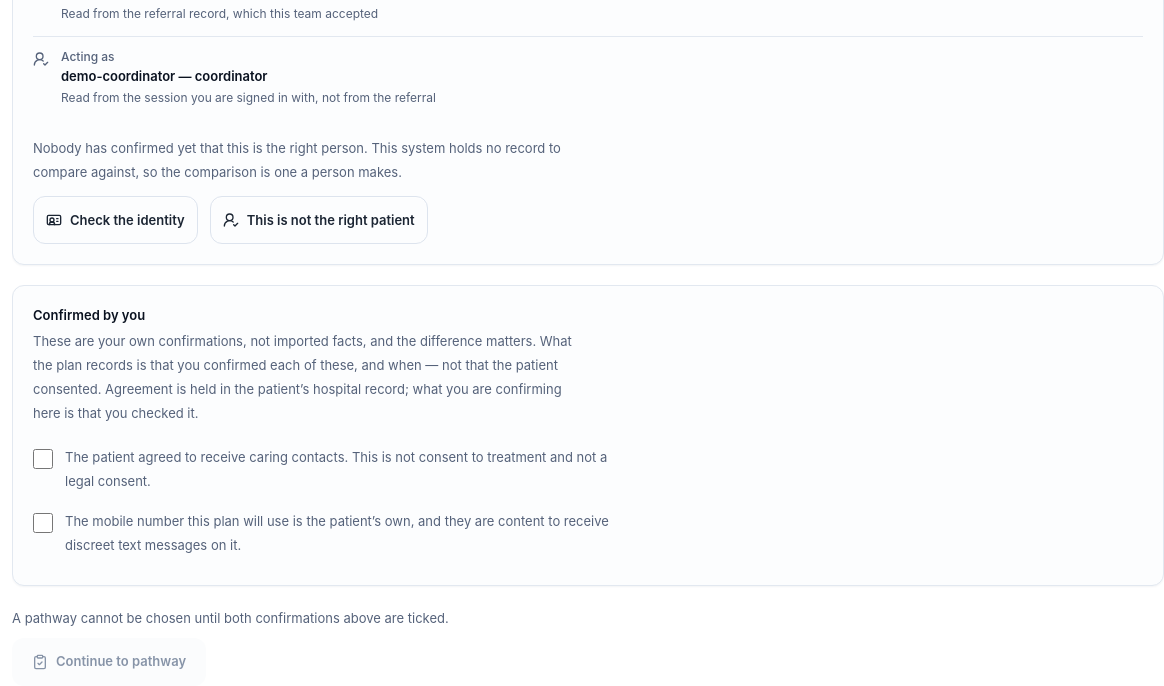
Test: the caring-contacts plan wizard — stage 2, pathway (Ruling [113]) › is an ordinary first choice when the referral names no pathway
(page scrolled)
Click the 1st checkbox at (43, 458), box x1=33 y1=448 x2=53 y2=468
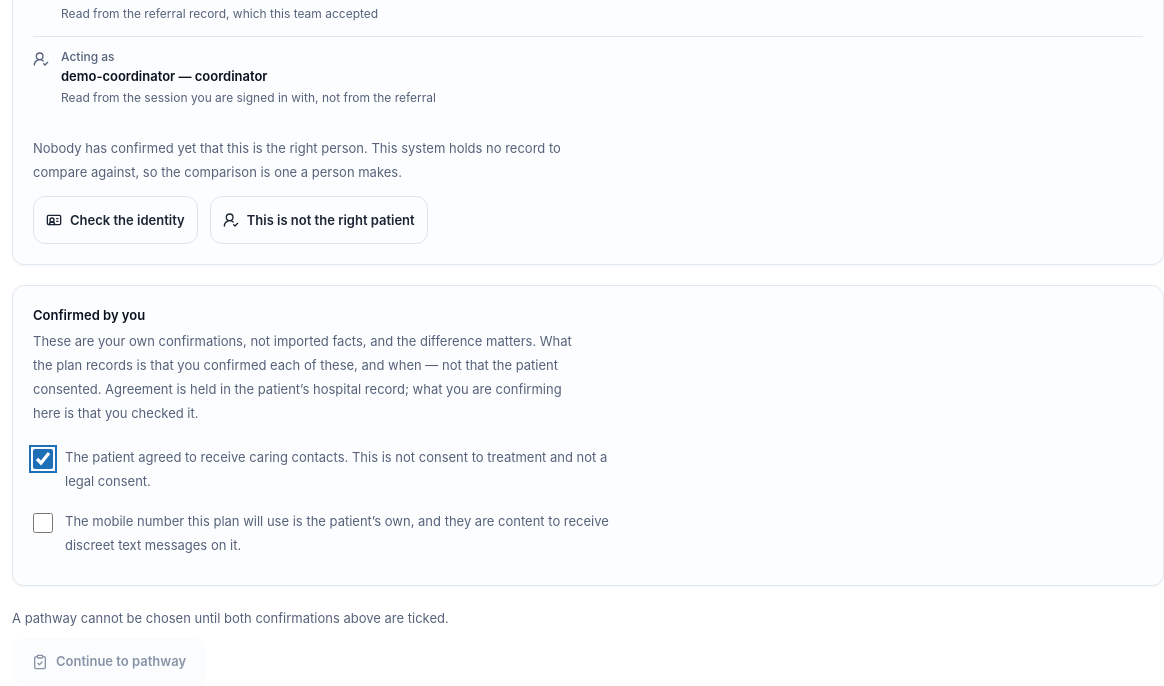
Click the 2nd checkbox at (43, 522), box x1=33 y1=512 x2=53 y2=532
(page scrolled)
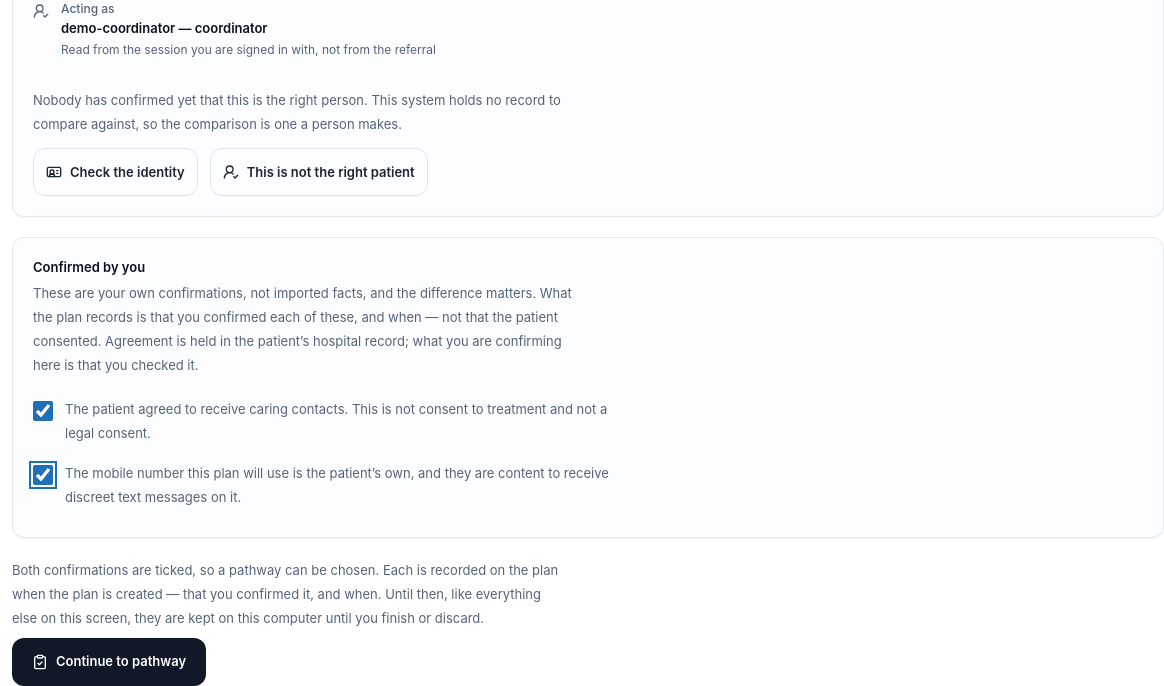
Click the button "Continue to pathway" at (109, 662), box x1=12 y1=638 x2=206 y2=685
(page scrolled)
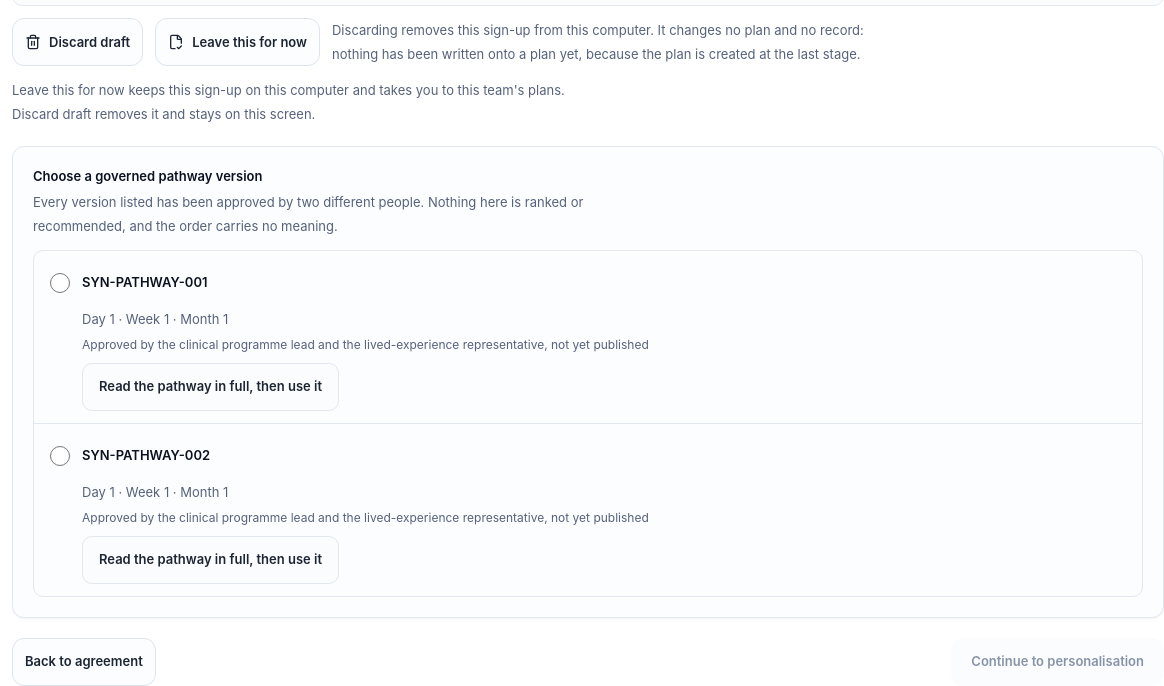
Expected: the radio button labelled "SYN-PATHWAY-001" is not checked, x1=50 y1=273 x2=70 y2=293
Expected: the radio button labelled "SYN-PATHWAY-002" is not checked, x1=50 y1=446 x2=70 y2=466
